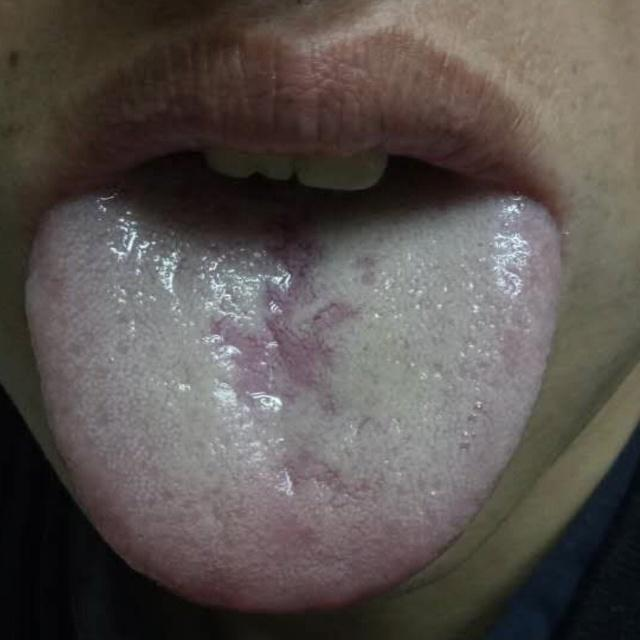baitaishe: (23, 193, 562, 614)
botaishe: (205, 230, 365, 421)
pangdashe: (23, 193, 562, 614)
